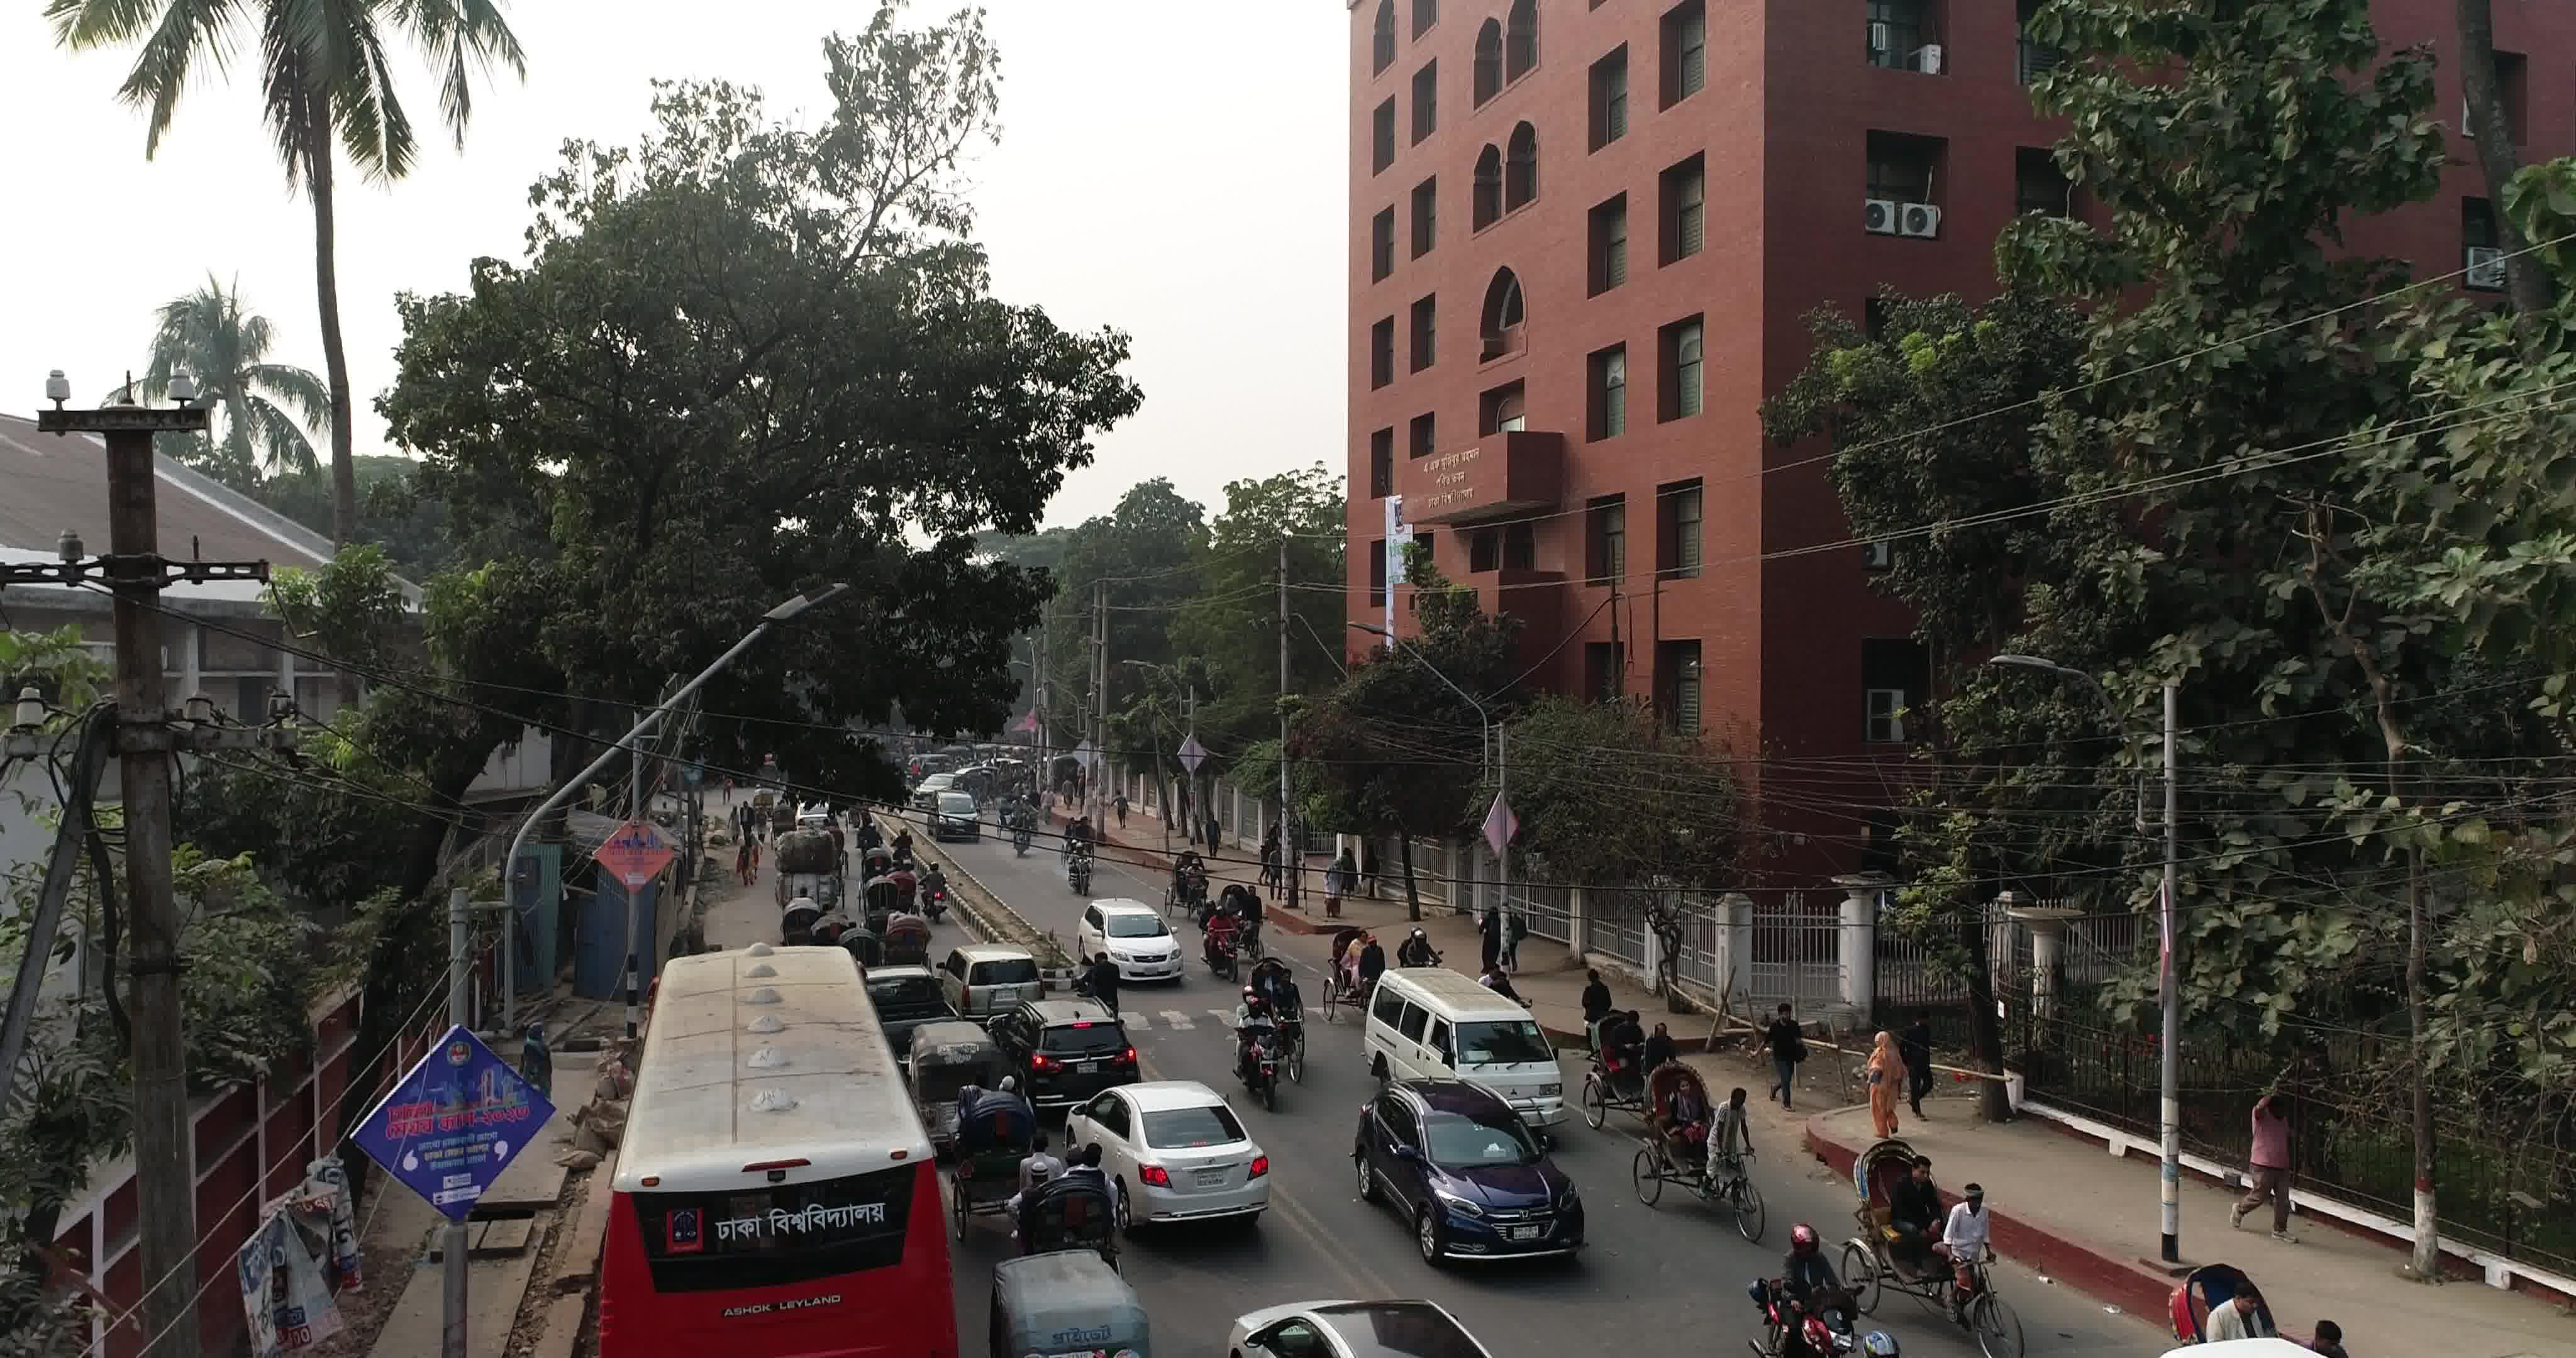bus: (603, 942, 949, 1355)
car: (1429, 1087, 1574, 1271), (1101, 1082, 1274, 1218), (1435, 987, 1559, 1125), (1233, 1298, 1498, 1358), (1031, 1000, 1133, 1101), (1101, 898, 1181, 981), (869, 963, 942, 1031), (964, 944, 1039, 1005), (934, 794, 983, 845)
cng: (990, 1251, 1145, 1358), (896, 1019, 1017, 1079)
motor: (1751, 1246, 1852, 1358), (2235, 1092, 2290, 1242), (1237, 983, 1281, 1108), (1765, 1000, 1804, 1106), (1905, 1022, 1937, 1125), (1205, 895, 1235, 976), (1872, 1039, 1898, 1131), (523, 1019, 550, 1096), (1012, 801, 1038, 862), (1503, 901, 1525, 970), (1324, 859, 1344, 924), (1482, 908, 1503, 971), (1402, 929, 1440, 963), (1343, 842, 1363, 900), (1266, 842, 1288, 895), (729, 799, 751, 849), (1070, 840, 1089, 895), (929, 859, 946, 918), (1205, 811, 1223, 862), (1366, 843, 1383, 896), (859, 820, 881, 857), (898, 828, 915, 876), (1113, 785, 1128, 838), (738, 840, 756, 879)
others: (773, 828, 843, 910)
rickshaw: (1852, 1150, 2027, 1358), (1646, 1068, 1767, 1244), (966, 1087, 1041, 1220), (1021, 1157, 1116, 1252), (1591, 1016, 1676, 1116), (2172, 1264, 2286, 1336), (1264, 949, 1303, 1080), (1331, 929, 1378, 1004), (1223, 879, 1259, 952), (1181, 847, 1210, 920), (884, 918, 937, 949), (860, 871, 903, 908), (780, 896, 825, 929), (1067, 816, 1094, 862), (845, 927, 877, 947)
